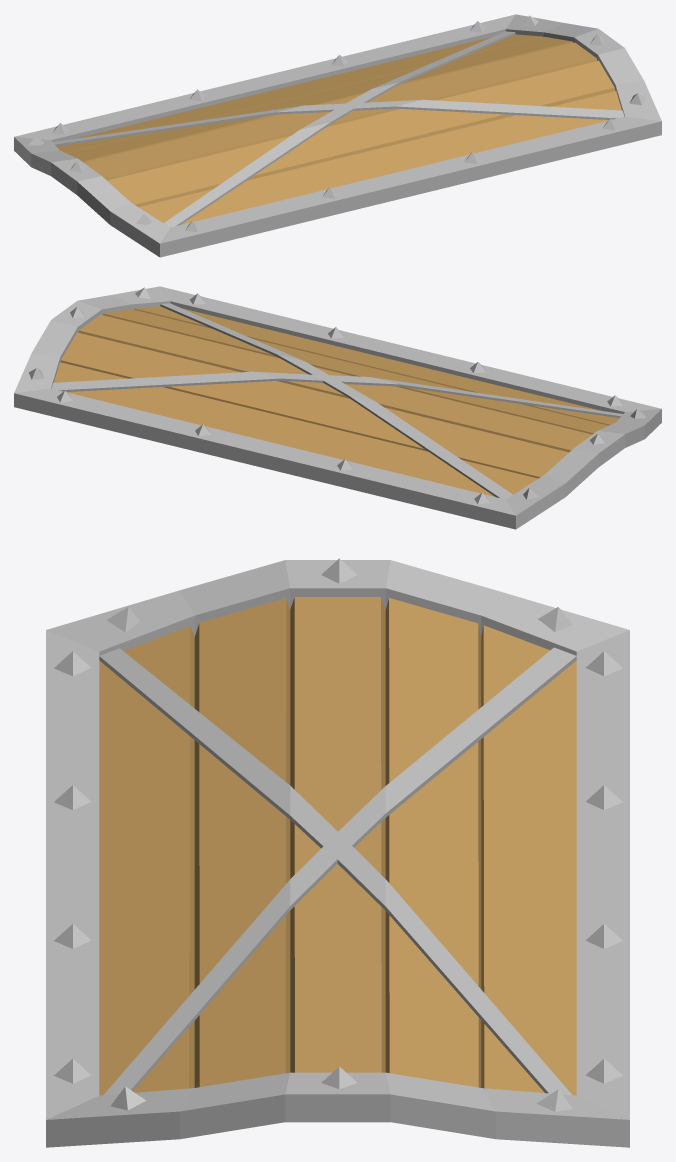
Rendered from Shield_2_c_wood.fbx.
3 views of the same model, one above another, from view 1: azimuth 30°, elevation 25°; view 2: azimuth 150°, elevation 25°; view 3: azimuth 270°, elevation 25° (orthographic). The views are drawn at different scales.
Visible parts, largest first — view 1: Plane.074, Plane.079, Plane.078, Cone.169; view 2: Plane.074, Plane.079, Plane.078, Cone.169; view 3: Plane.074, Plane.079, Plane.078, Cone.169.
Boxes of the visible parts, box(x1,y1,x2,y2) form: Plane.074: box(56, 34, 621, 224); Plane.079: box(14, 14, 661, 257); Plane.078: box(53, 31, 624, 227); Cone.169: box(28, 15, 645, 231); Plane.074: box(54, 306, 619, 496); Plane.079: box(14, 286, 661, 529); Plane.078: box(51, 303, 622, 499); Cone.169: box(28, 287, 646, 504); Plane.074: box(99, 597, 576, 1095); Plane.079: box(46, 560, 629, 1147); Plane.078: box(99, 647, 576, 1095); Cone.169: box(54, 558, 622, 1111).
Bounding box in the file's own units: 132 × 16.24 × 61.17.
